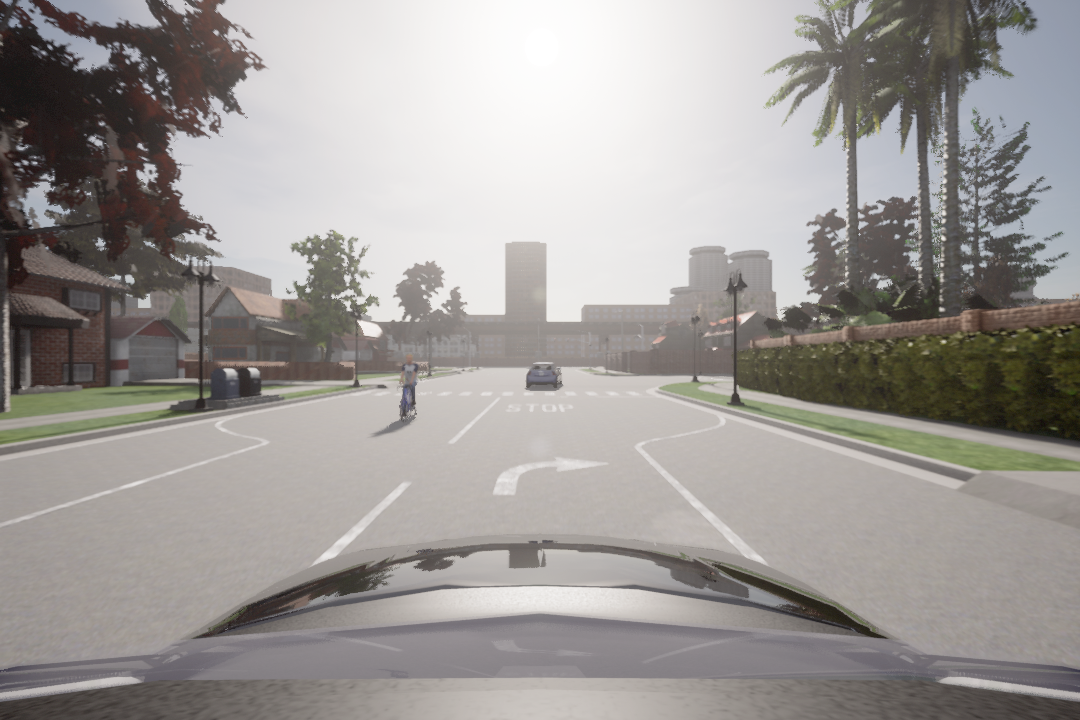RoadSign_right: (491, 452, 618, 501)
walkside: (355, 387, 651, 400)
